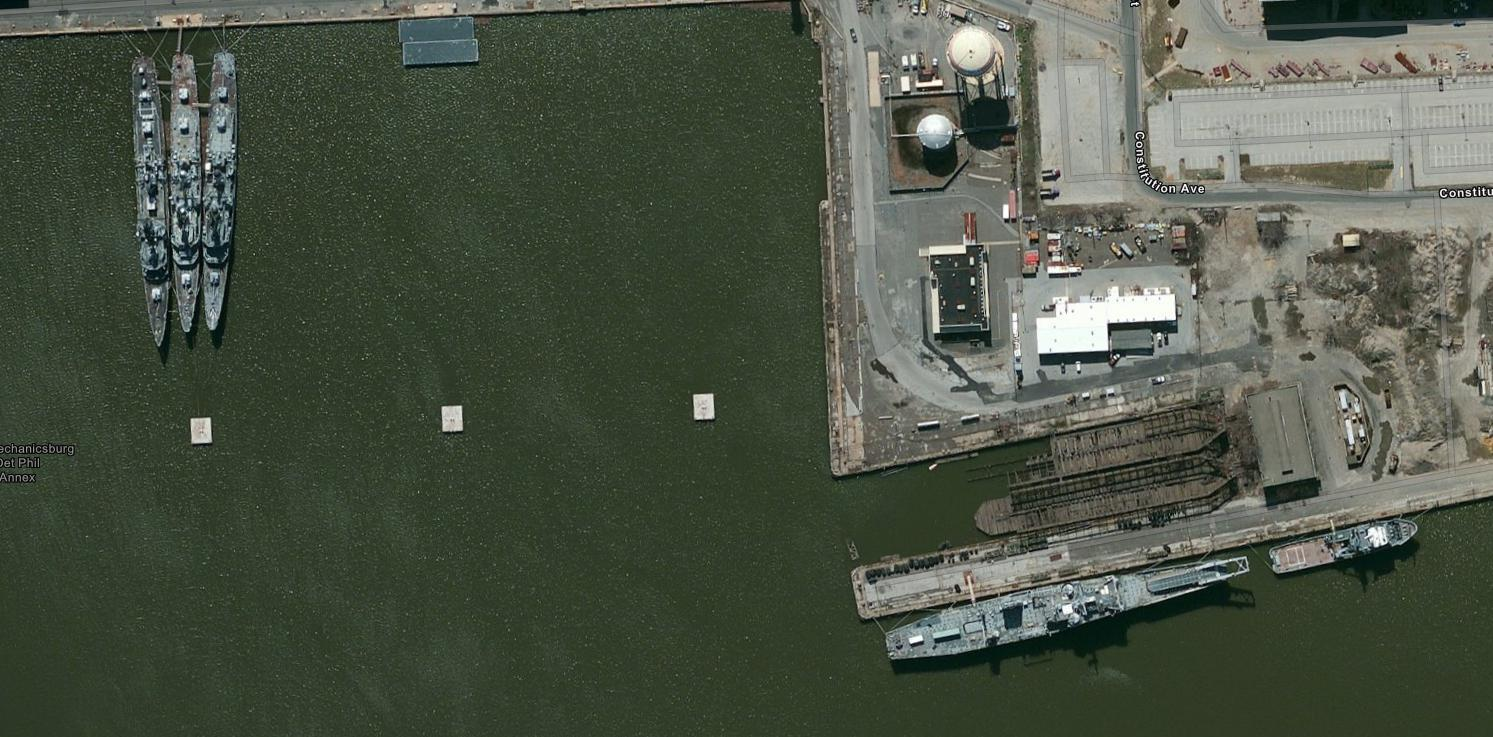destroyer: (154, 34, 210, 345), (124, 45, 177, 354), (205, 41, 241, 333)
